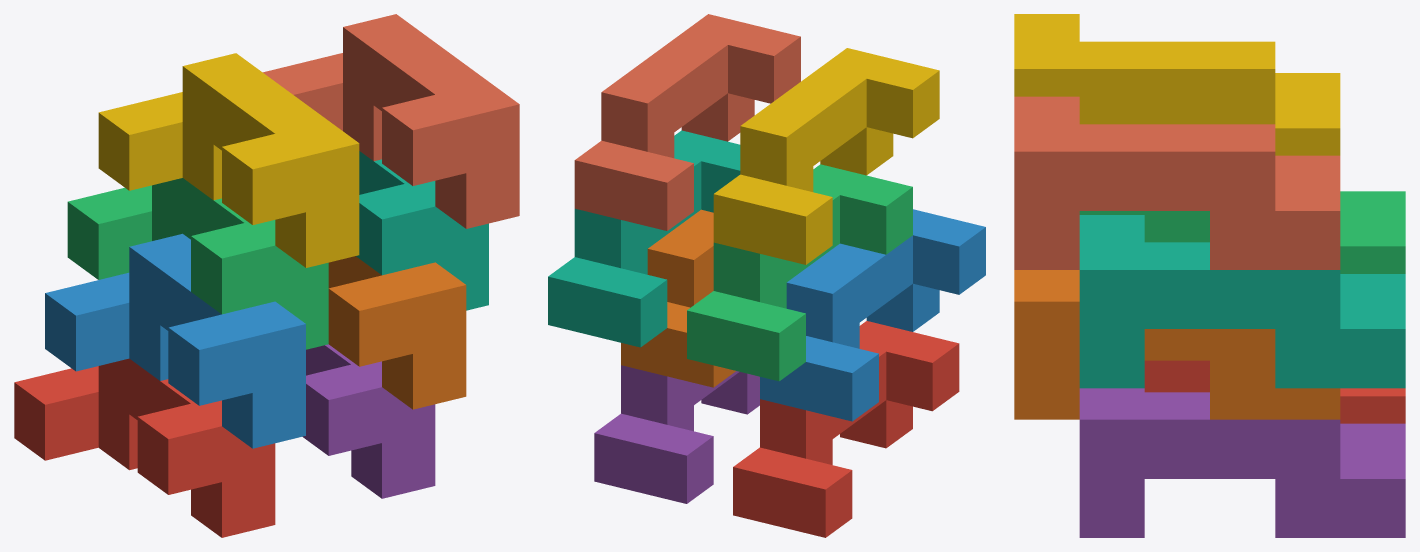
The model's file is tiling.obj.
The picture shows the model from 3 angles, left to right: view 1: azimuth 30°, elevation 25°; view 2: azimuth 150°, elevation 25°; view 3: azimuth 270°, elevation 25°; orthographic projection. The views are drawn at different scales.
Visible parts, largest first — view 1: copy_1_domain_4, copy_1_domain_2, copy_1_domain_8, copy_1_domain_1, copy_1_domain_3, copy_1_domain_6, copy_1_domain_5, copy_1_domain_7; view 2: copy_1_domain_4, copy_1_domain_8, copy_1_domain_2, copy_1_domain_1, copy_1_domain_3, copy_1_domain_7, copy_1_domain_5, copy_1_domain_6; view 3: copy_1_domain_8, copy_1_domain_7, copy_1_domain_5, copy_1_domain_4, copy_1_domain_6, copy_1_domain_3, copy_1_domain_1.
Part boxes in pixels (<box>): copy_1_domain_4: <box>98,53,359,267</box>; copy_1_domain_2: <box>45,233,305,448</box>; copy_1_domain_8: <box>263,14,519,228</box>; copy_1_domain_1: <box>14,358,275,537</box>; copy_1_domain_3: <box>67,178,328,349</box>; copy_1_domain_6: <box>328,256,466,409</box>; copy_1_domain_5: <box>302,344,435,498</box>; copy_1_domain_7: <box>356,151,488,310</box>; copy_1_domain_4: <box>713,48,939,264</box>; copy_1_domain_8: <box>574,14,800,230</box>; copy_1_domain_2: <box>760,209,985,421</box>; copy_1_domain_1: <box>733,321,959,537</box>; copy_1_domain_3: <box>687,164,912,381</box>; copy_1_domain_7: <box>548,130,740,347</box>; copy_1_domain_5: <box>594,365,759,503</box>; copy_1_domain_6: <box>621,209,735,387</box>; copy_1_domain_8: <box>1014,96,1340,269</box>; copy_1_domain_7: <box>1079,215,1405,388</box>; copy_1_domain_5: <box>1079,388,1405,537</box>; copy_1_domain_4: <box>1014,14,1340,155</box>; copy_1_domain_6: <box>1014,270,1340,419</box>; copy_1_domain_3: <box>1079,191,1405,273</box>; copy_1_domain_1: <box>1144,360,1405,423</box>.
Bounding box in the file's own units: 6 × 7 × 6.
